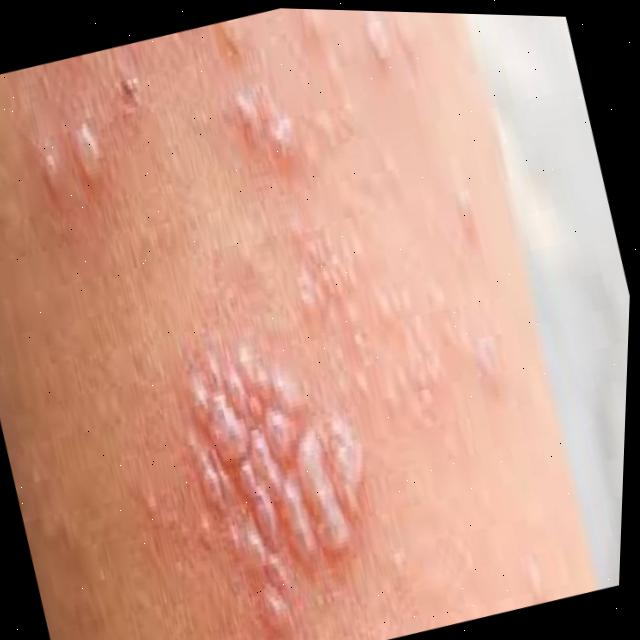Shingles: (132, 321, 391, 640), (296, 199, 521, 428), (216, 65, 333, 168), (59, 106, 140, 200)
